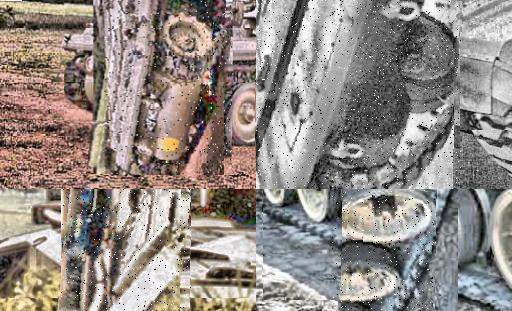tanks: (257, 1, 462, 190), (106, 1, 234, 176), (62, 190, 192, 311), (339, 190, 437, 311), (481, 111, 512, 162)
